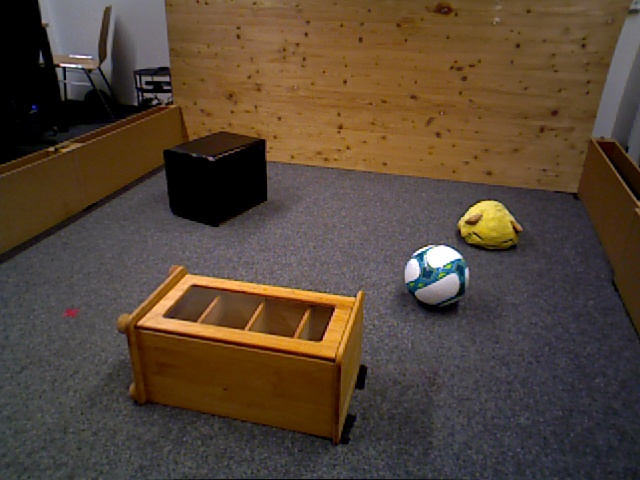grasp: (458, 198, 522, 246)
kick: (405, 249, 472, 312)
push: (162, 131, 267, 225)
